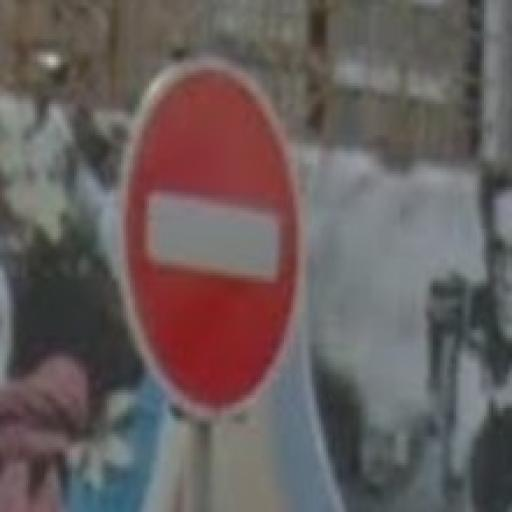traffic_sign: (120, 58, 311, 422)
